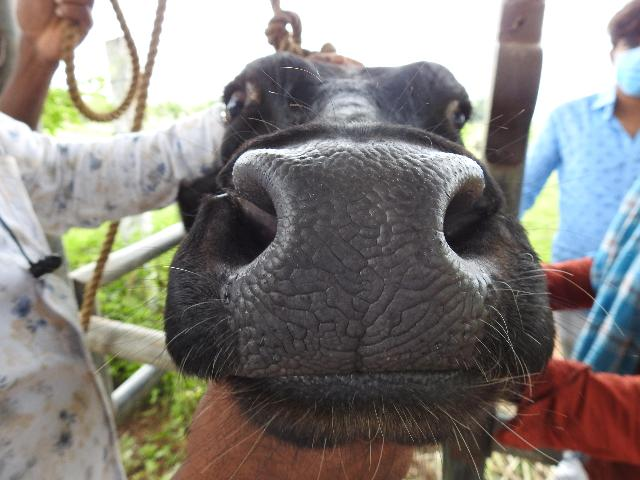Muzzle: (252, 147, 454, 364)
